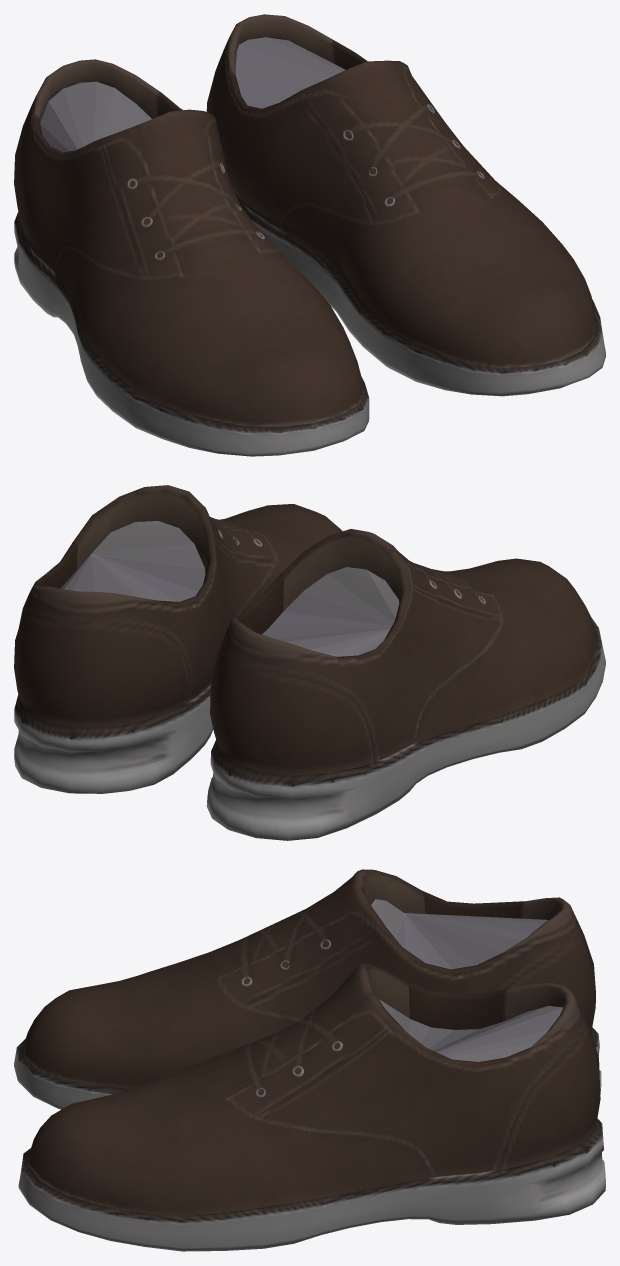
File: Shoes 1.fbx
3 views of the same model, one above another, from view 1: azimuth 30°, elevation 25°; view 2: azimuth 150°, elevation 25°; view 3: azimuth 270°, elevation 25° (orthographic).
Visible parts, largest first — view 1: shoes 1; view 2: shoes 1; view 3: shoes 1.
Part boxes in pixels (x1,y1,x2,y2): shoes 1: (14,14,605,456); shoes 1: (14,485,605,840); shoes 1: (14,869,605,1251).
Size of the model in its own units: 26.18 by 12.01 by 29.23.
1 material, 1 textured.
